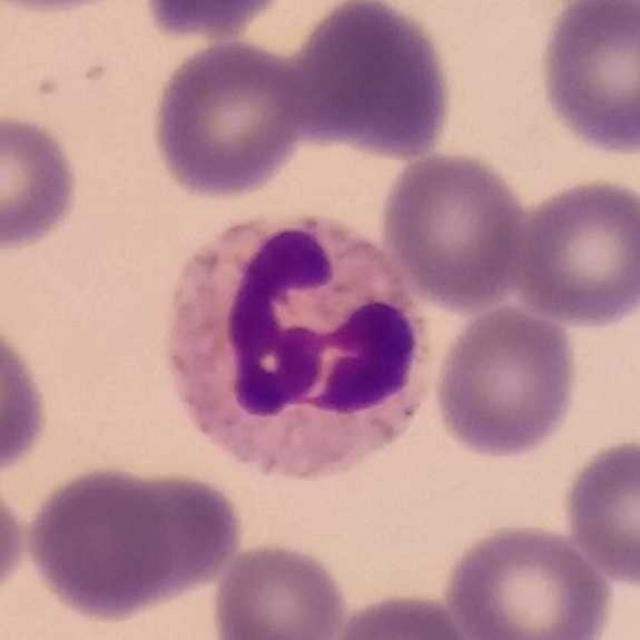Neutrophil: (147, 201, 436, 486)
RBC: (284, 0, 458, 163), (146, 35, 313, 204), (22, 460, 182, 624), (376, 147, 533, 310), (429, 303, 583, 463), (95, 463, 247, 614), (439, 517, 617, 640), (510, 172, 640, 330), (533, 0, 640, 160), (208, 536, 352, 640), (0, 108, 86, 255), (557, 435, 640, 586), (0, 310, 53, 480), (320, 587, 484, 640), (135, 0, 291, 42), (0, 456, 32, 614), (0, 0, 145, 18)
